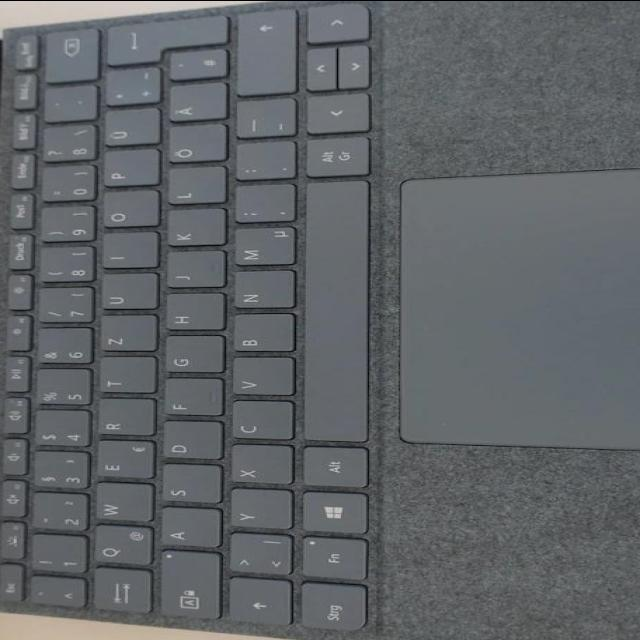0: (35, 168, 93, 204)
1: (24, 536, 83, 576)
2: (24, 494, 84, 533)
3: (26, 453, 86, 491)
4: (28, 412, 86, 449)
5: (31, 371, 87, 408)
6: (31, 330, 89, 366)
7: (31, 289, 90, 326)
8: (32, 249, 90, 285)
9: (34, 208, 93, 245)
a: (154, 509, 218, 550)
accent: (37, 88, 93, 124)
ae: (162, 85, 224, 125)
alt-left: (296, 448, 365, 490)
altgr-right: (301, 139, 367, 180)
b: (226, 315, 290, 355)
c: (225, 402, 291, 443)
caret: (24, 579, 82, 610)
comma: (228, 186, 292, 226)
d: (156, 423, 219, 461)
del: (38, 30, 97, 84)
e: (90, 442, 150, 482)
enter: (98, 18, 223, 67)
f: (157, 380, 219, 418)
g: (159, 338, 221, 376)
h: (159, 295, 221, 333)
hash: (160, 52, 223, 82)
i: (94, 234, 154, 270)
j: (160, 253, 222, 290)
k: (162, 210, 224, 248)
keyboard: (1, 0, 385, 640)
l: (160, 169, 223, 207)
less: (222, 534, 290, 578)
m: (228, 230, 292, 268)
minus: (229, 101, 292, 142)
n: (231, 269, 295, 309)
o: (96, 193, 156, 230)
oe: (162, 126, 224, 164)
p: (96, 151, 156, 189)
plus: (98, 70, 157, 108)
point: (229, 143, 291, 183)
q: (87, 526, 149, 568)
r: (92, 400, 152, 438)
s: (156, 466, 219, 506)
shift-left: (222, 580, 290, 628)
shift-lock: (154, 552, 218, 622)
shift-right: (229, 10, 295, 97)
space: (298, 181, 367, 447)
ss: (35, 128, 93, 165)
strg-left: (294, 584, 364, 636)
t: (94, 358, 153, 395)
tab: (86, 570, 149, 616)
u: (94, 275, 154, 312)
ue: (97, 110, 157, 148)
v: (225, 358, 291, 398)
w: (89, 484, 149, 524)
x: (223, 446, 291, 487)
y: (223, 490, 289, 532)
z: (94, 316, 153, 354)
